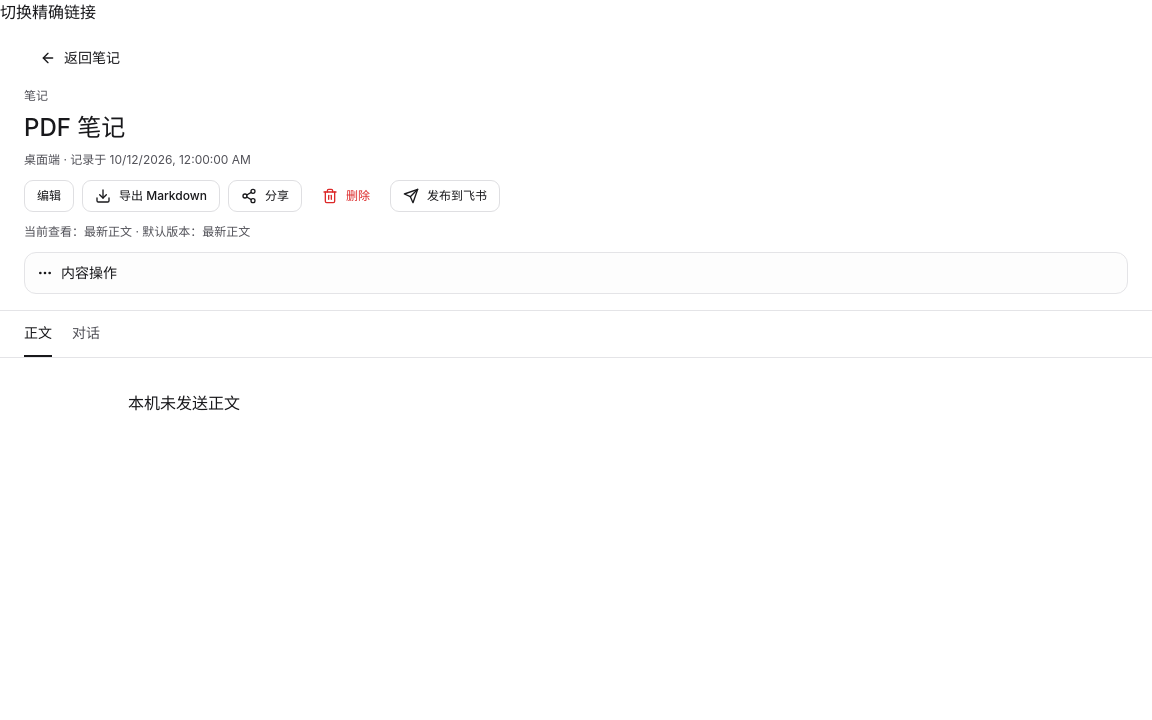
allows known unsent paused content to enter device trash through one confirmation without changing its original until confirmed
Check: the text "本机未发送正文" is shown, box [128,393,240,413]
Click the button "内容操作". click: click(77, 272)
box: [37,264,117,281]
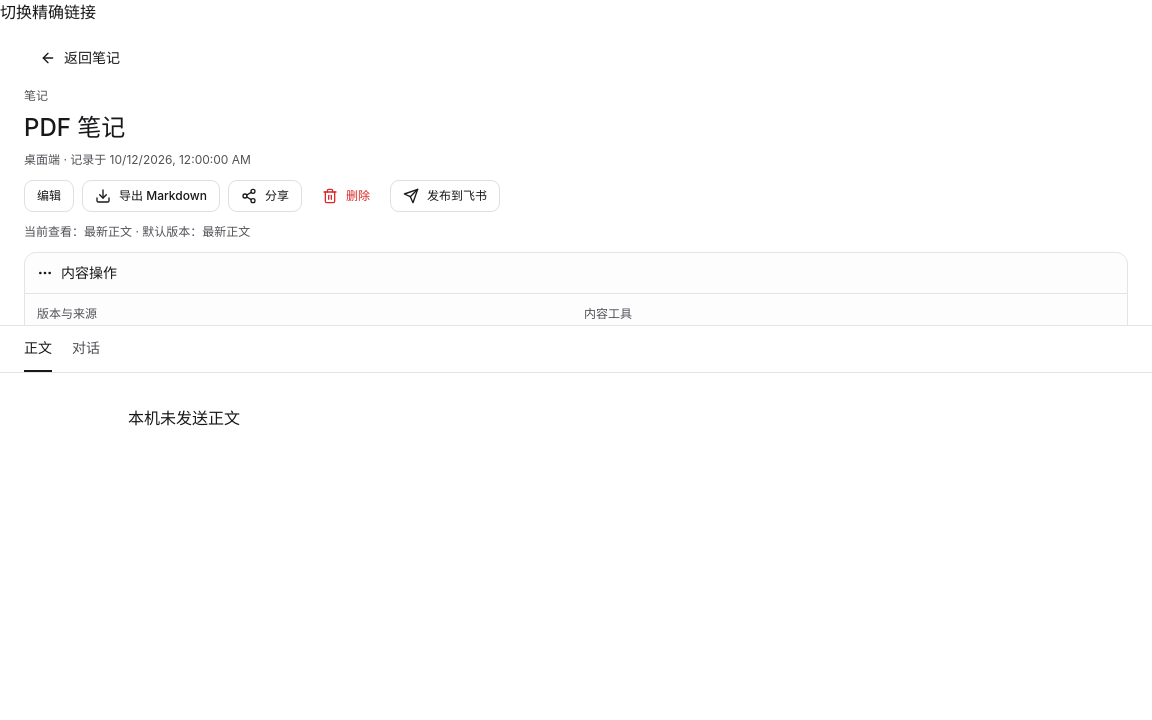
Click the button "删除". click: click(346, 196)
box: [310,180,382,212]
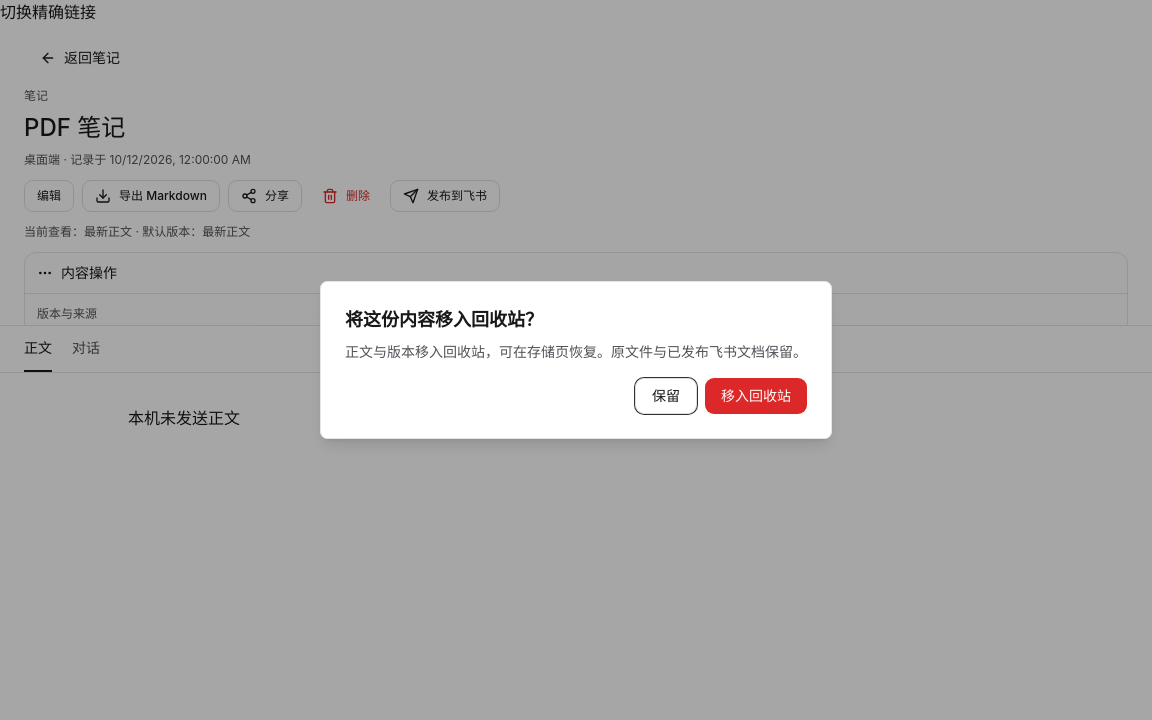
Check: the dialog shows "正文与版本移入回收站", box [345,343,807,360]
Check: the dialog shows "原文件与已发布飞书文档保留", box [345,343,807,360]
Click the button "保留". click: click(666, 396)
box: [635,378,697,414]
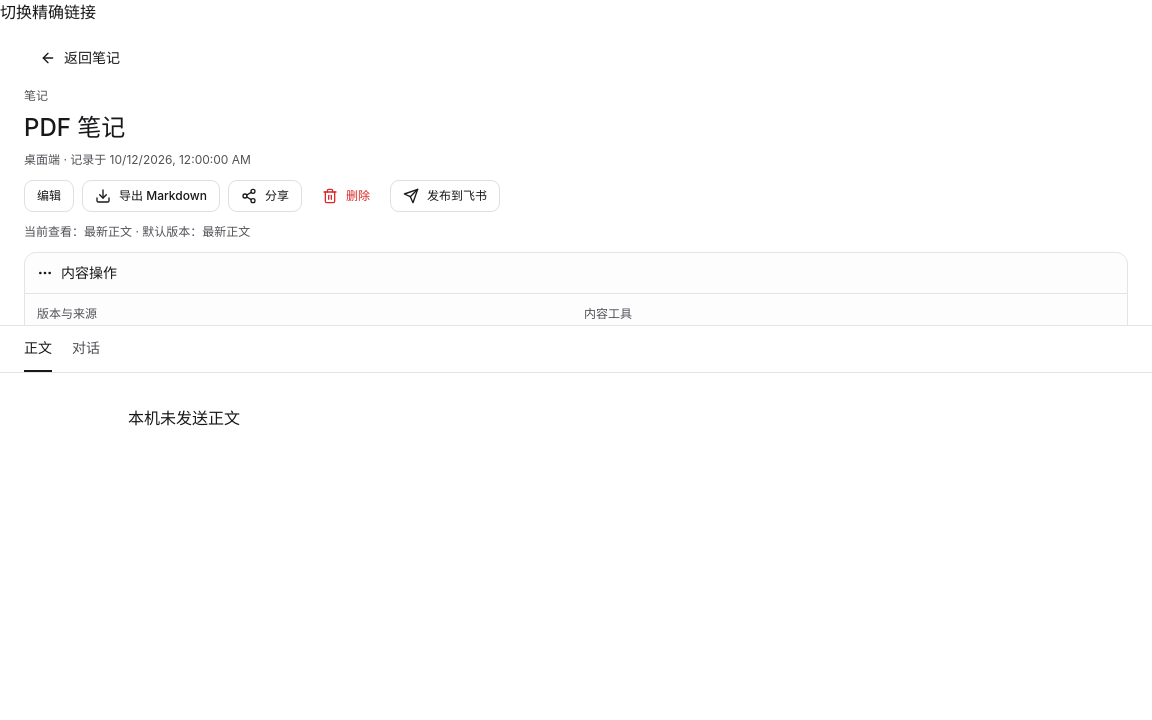
Click the button "删除". click: click(346, 196)
box: [310,180,382,212]
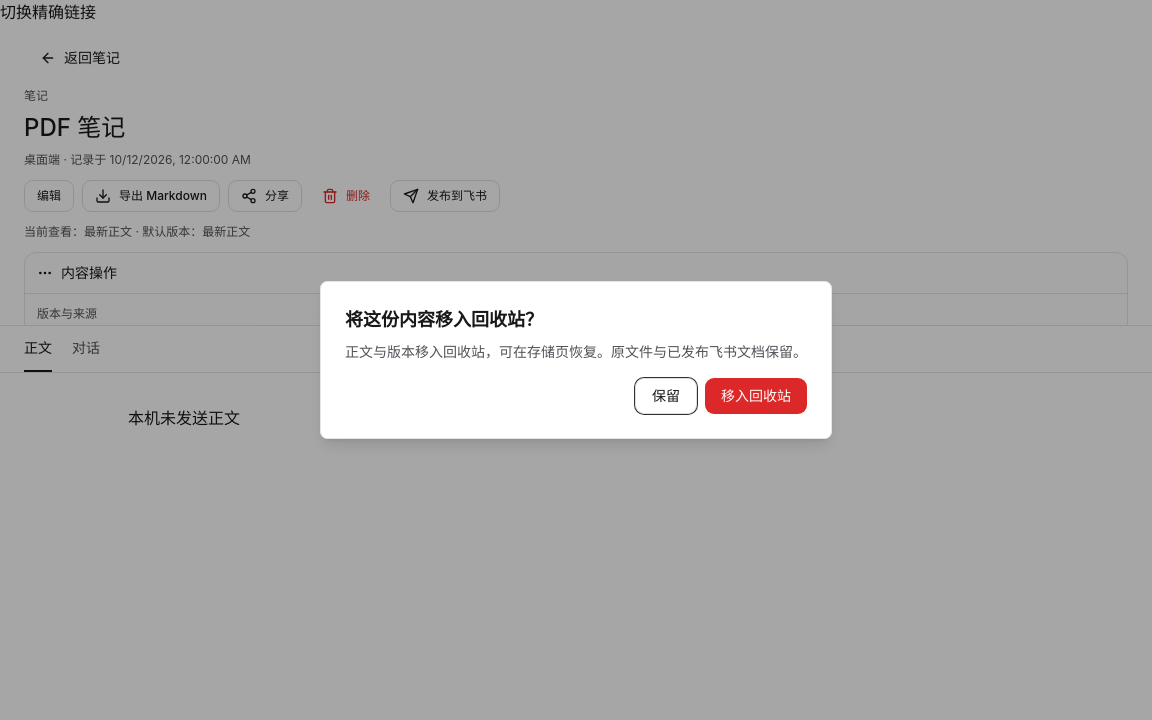
Click the button "移入回收站". click: click(756, 396)
box: [705,378,807,414]
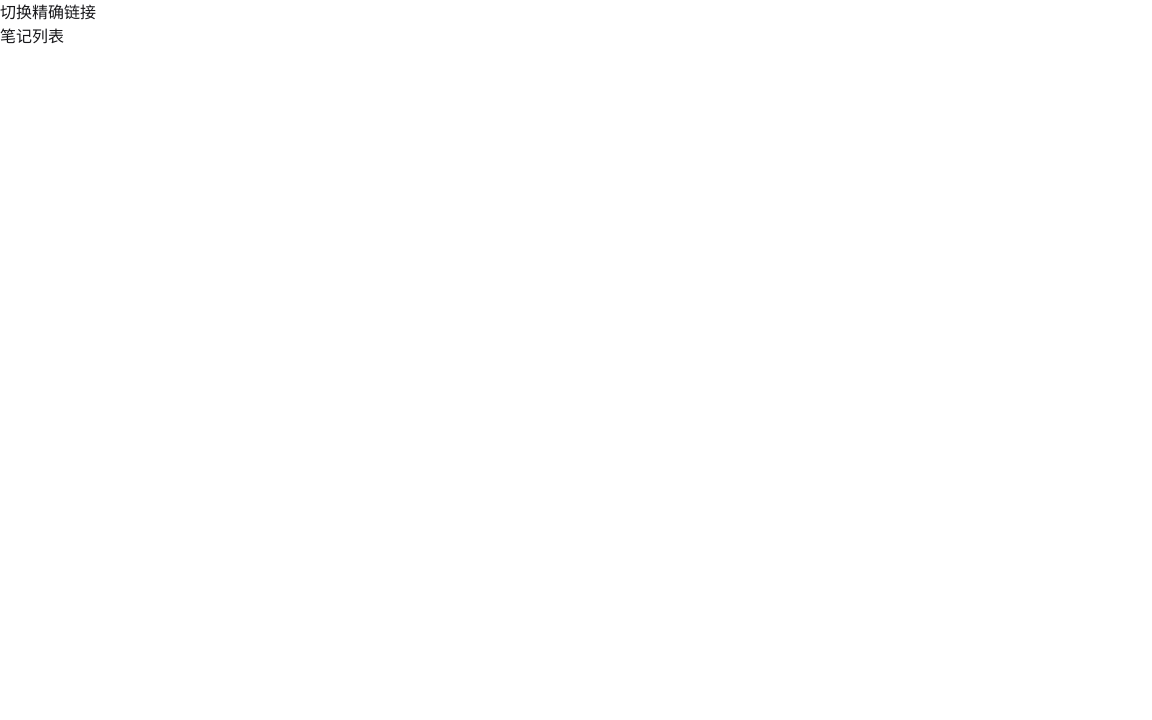
Check: the text "笔记列表" is shown, box [0,26,64,46]
